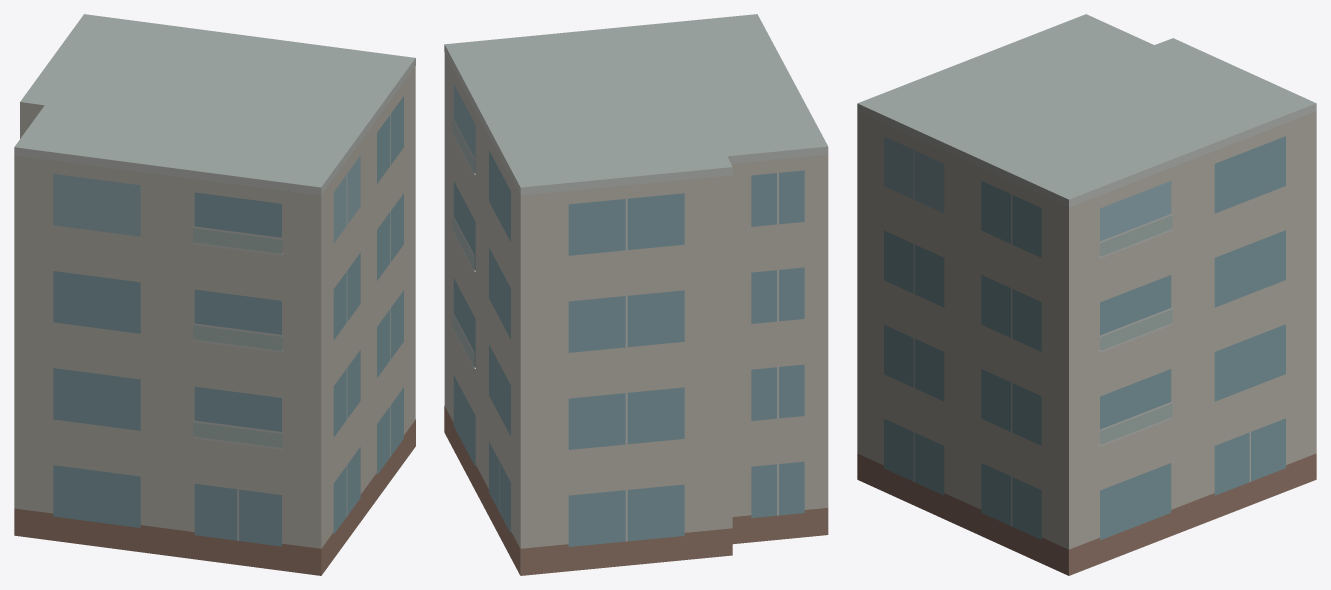
Rendered from survey-upis-32718892.glb.
3 renders of one model, left to right at view 1: azimuth 30°, elevation 25°; view 2: azimuth 150°, elevation 25°; view 3: azimuth 270°, elevation 25°, orthographic. The views are drawn at different scales.
Visible parts, largest first — view 1: survey-upis-32718892.tmp; view 2: survey-upis-32718892.tmp; view 3: survey-upis-32718892.tmp.
Boxes of the visible parts, left/top/right/bottom form: survey-upis-32718892.tmp: left=14, top=14, right=415, bottom=575; survey-upis-32718892.tmp: left=444, top=14, right=828, bottom=575; survey-upis-32718892.tmp: left=857, top=14, right=1316, bottom=575.
Bounding box in the file's own units: 12.44 × 11.75 × 13.01.
